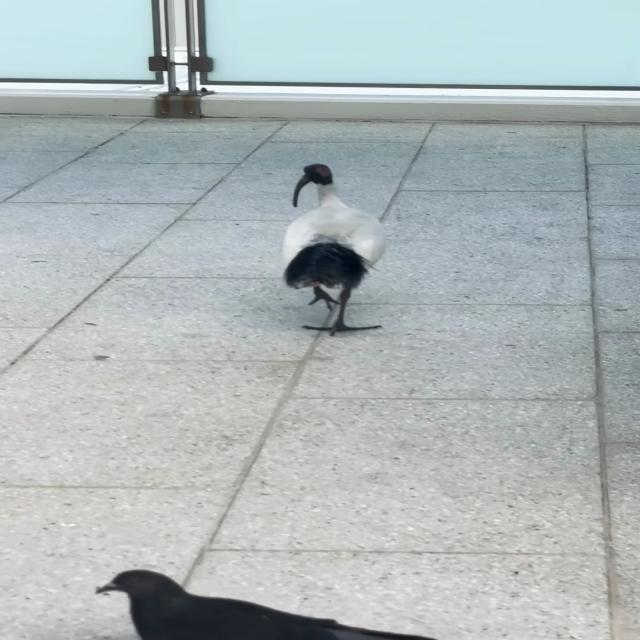Birds-Ibis: (273, 160, 394, 341)
Birds-Other: (89, 563, 446, 640)
